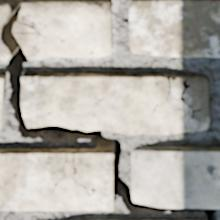brick: (22, 74, 209, 133), (0, 149, 113, 210), (131, 147, 219, 207), (129, 0, 219, 56), (0, 76, 5, 127)
broken_brick: (17, 0, 111, 60), (0, 1, 9, 27), (0, 41, 8, 61)
crack: (0, 0, 218, 219)
